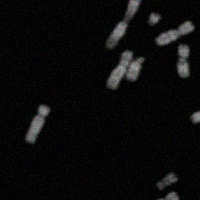chromosome: (107, 0, 143, 48), (106, 48, 131, 90), (156, 20, 194, 47), (25, 103, 49, 144), (127, 57, 144, 84), (177, 44, 189, 78), (157, 174, 177, 191), (190, 96, 200, 123), (149, 192, 179, 200), (147, 12, 160, 26)
